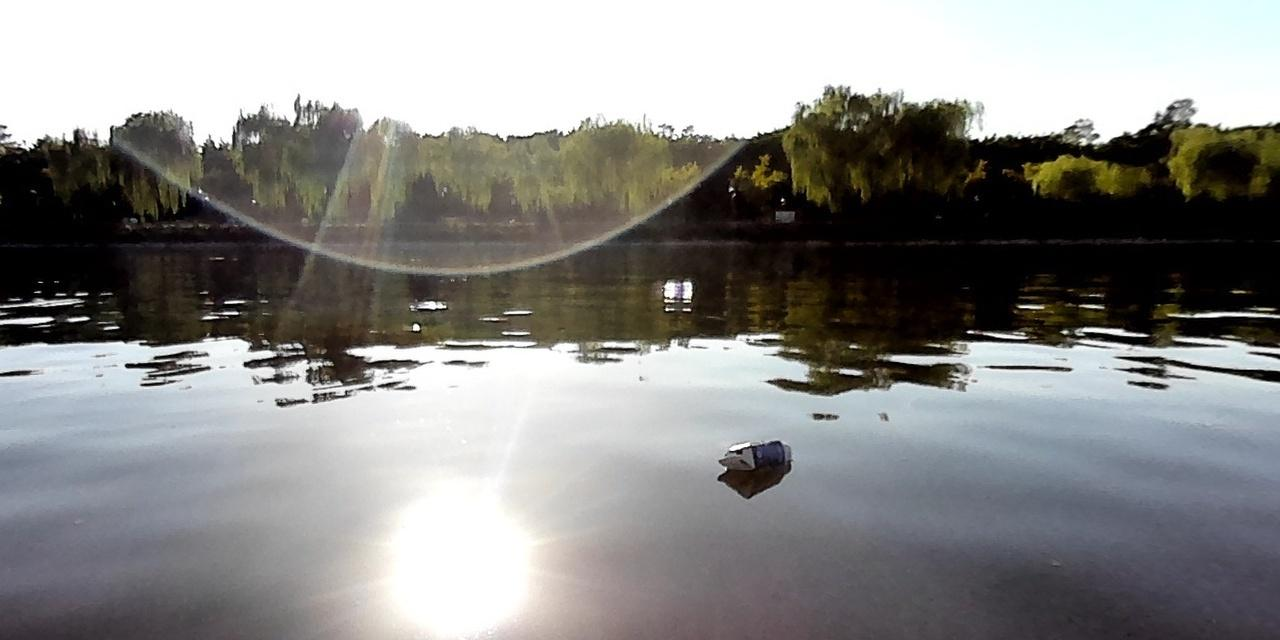bottle: (713, 435, 796, 472), (655, 276, 695, 292)
